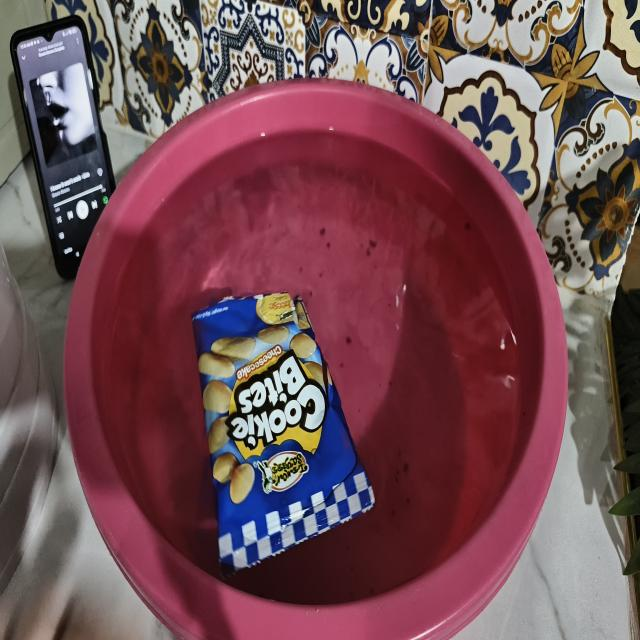Plastic Wrapper: (172, 253, 392, 600)
